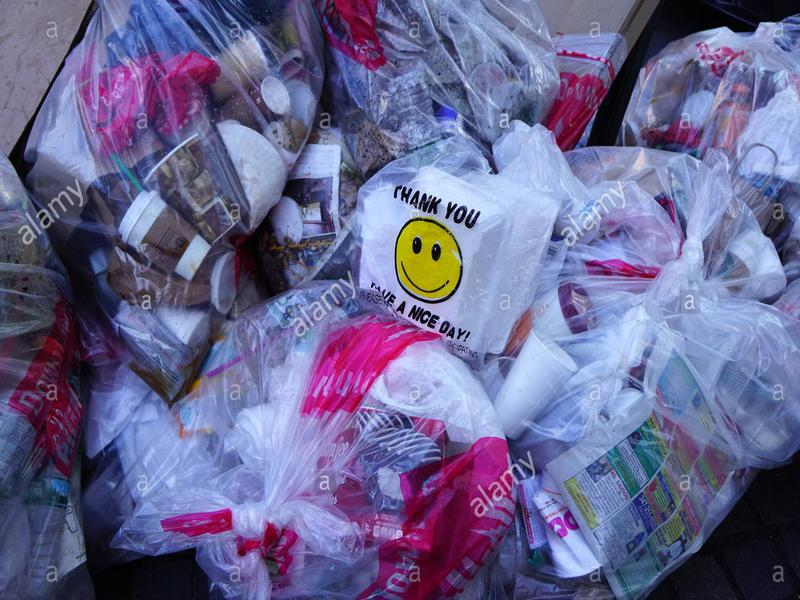plastic: (488, 140, 797, 600), (97, 274, 518, 600), (22, 2, 331, 402), (318, 2, 614, 173), (347, 144, 566, 366), (615, 14, 800, 253)
